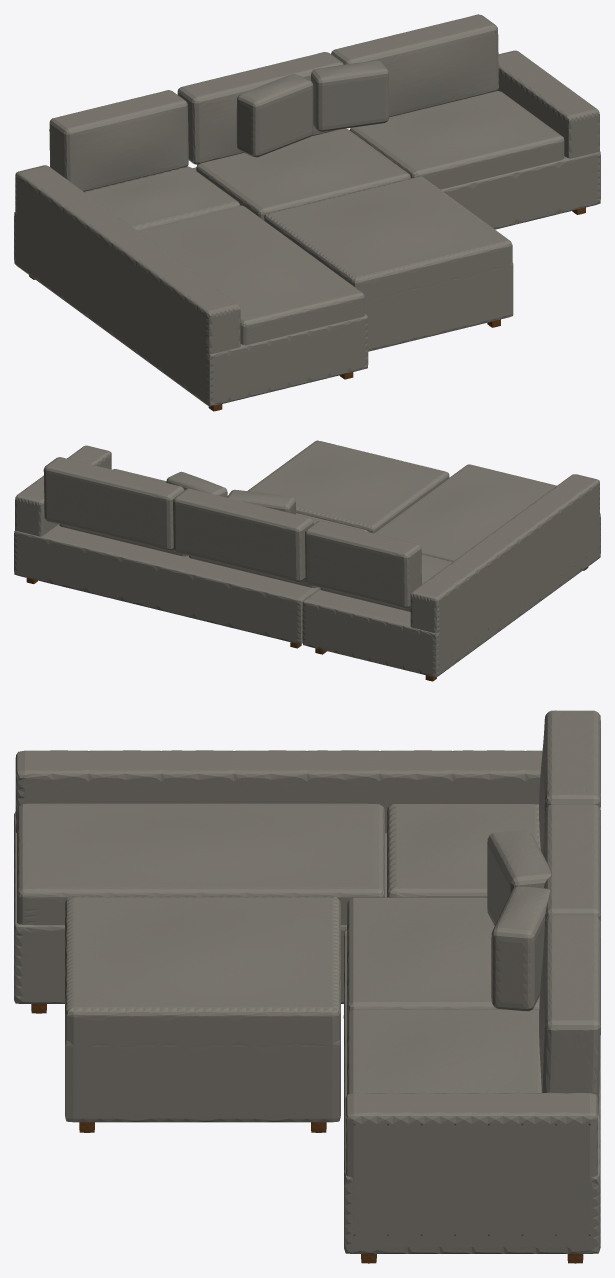
The model's file is penelope.glb.
3 renders of one model, top to bottom at view 1: azimuth 30°, elevation 25°; view 2: azimuth 150°, elevation 25°; view 3: azimuth 270°, elevation 25°, orthographic. The views are drawn at different scales.
Parts seen in each view (by area): view 1: upholstery; view 2: upholstery; view 3: upholstery, legs.
Boxes of the visible parts, left/top/right/bottom form: upholstery: left=14, top=14, right=600, bottom=406; upholstery: left=14, top=440, right=600, bottom=677; upholstery: left=14, top=710, right=600, bottom=1253; legs: left=31, top=1004, right=583, bottom=1263.
Bounding box in the file's own units: 3.08 × 0.8812 × 2.08.
3 materials, 3 textured.
